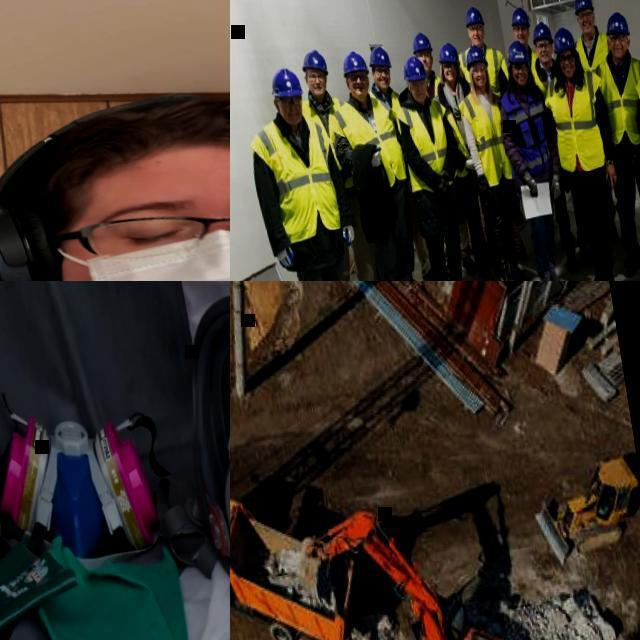helmet: (9, 68, 224, 294), (268, 64, 304, 100), (299, 46, 329, 78), (340, 48, 370, 78), (602, 10, 630, 38), (400, 54, 428, 82), (551, 25, 578, 52), (504, 38, 530, 65), (366, 44, 393, 70), (436, 40, 461, 66), (464, 43, 488, 70), (530, 20, 554, 46), (410, 30, 432, 54), (462, 5, 485, 27), (510, 6, 530, 28), (572, 0, 595, 13)
